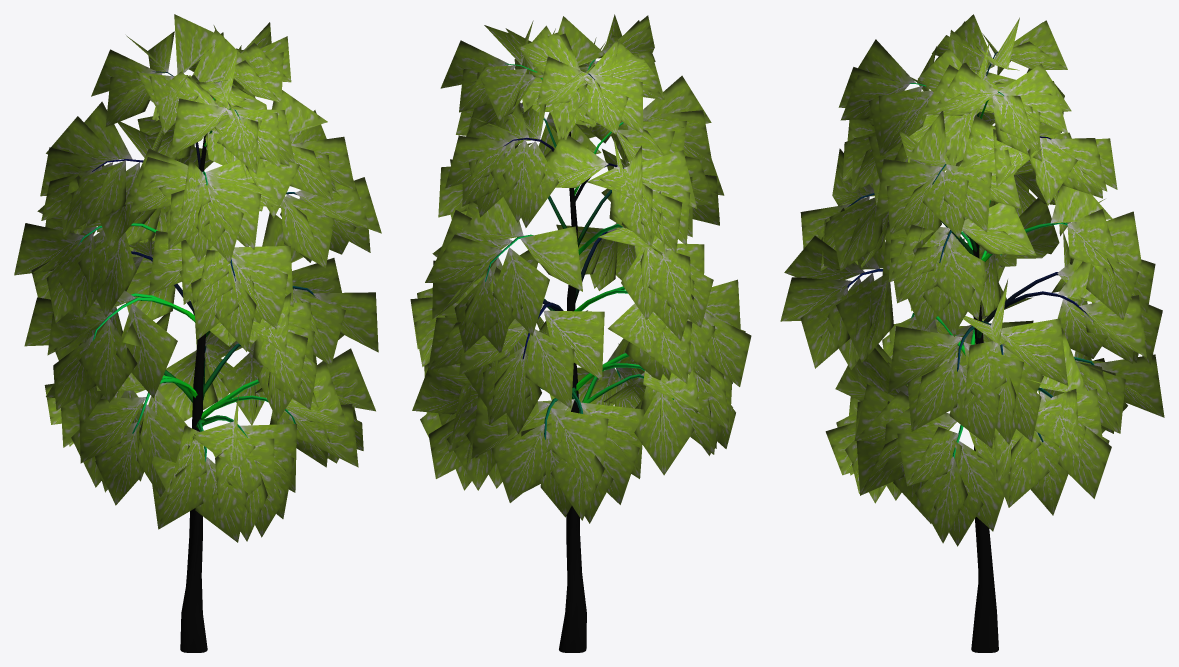
The model's file is BirchTree05.fbx.
3 views of the same model, side by side, from view 1: azimuth 30°, elevation 25°; view 2: azimuth 150°, elevation 25°; view 3: azimuth 270°, elevation 25° (orthographic).
Visible parts, largest first — view 1: Tree_1, Tree_0; view 2: Tree_1, Tree_0; view 3: Tree_1, Tree_0.
Boxes of the visible parts, box(x1,y1,x2,y2) form: Tree_1: box(14, 14, 381, 542); Tree_0: box(78, 71, 314, 652); Tree_1: box(410, 14, 751, 523); Tree_0: box(485, 59, 673, 652); Tree_1: box(780, 14, 1164, 546); Tree_0: box(847, 52, 1094, 652).
Bounding box in the file's own units: 87.28 × 168 × 92.69.
